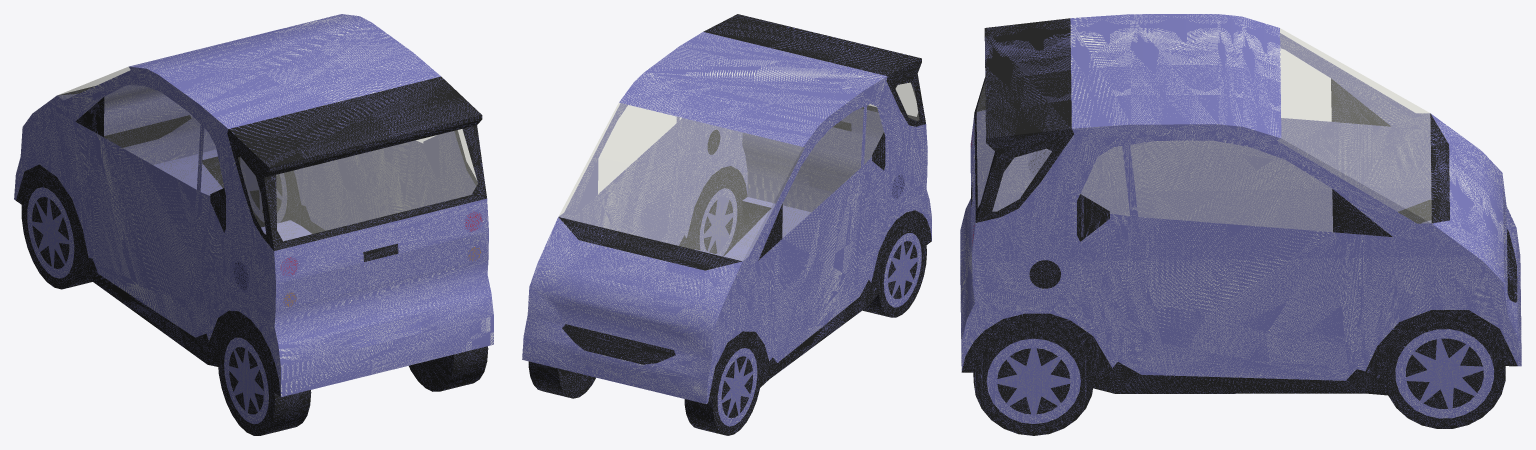
File: smart.dae
3 renders of one model, left to right at view 1: azimuth 30°, elevation 25°; view 2: azimuth 150°, elevation 25°; view 3: azimuth 270°, elevation 25°, orthographic. The views are drawn at different scales.
Parts seen in each view (by area): view 1: Model; view 2: Model; view 3: Model.
Part boxes in pixels (left/top/right/bottom): Model: left=14, top=14, right=493, bottom=435; Model: left=522, top=14, right=931, bottom=435; Model: left=960, top=14, right=1521, bottom=435.
Bounding box in the file's own units: 50.16 × 107 × 65.2.
